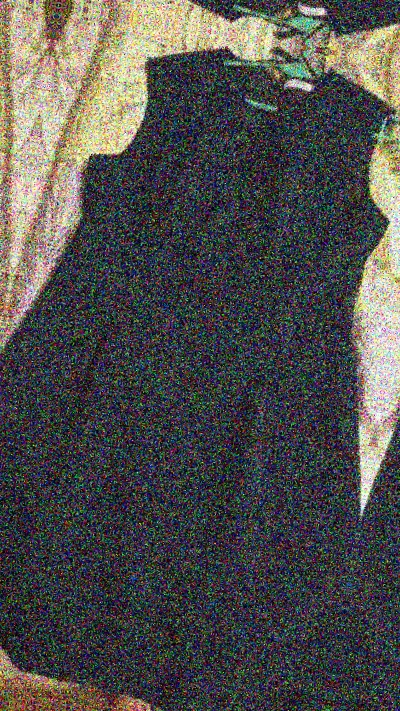Dress: (0, 17, 400, 711), (323, 81, 400, 711), (0, 0, 45, 688), (71, 0, 400, 60), (0, 697, 316, 711)
